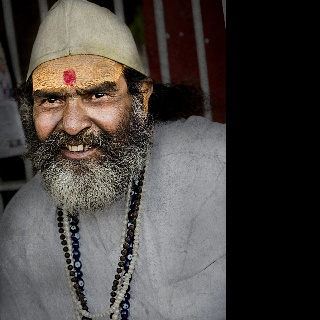without_mask: (32, 53, 131, 176)
